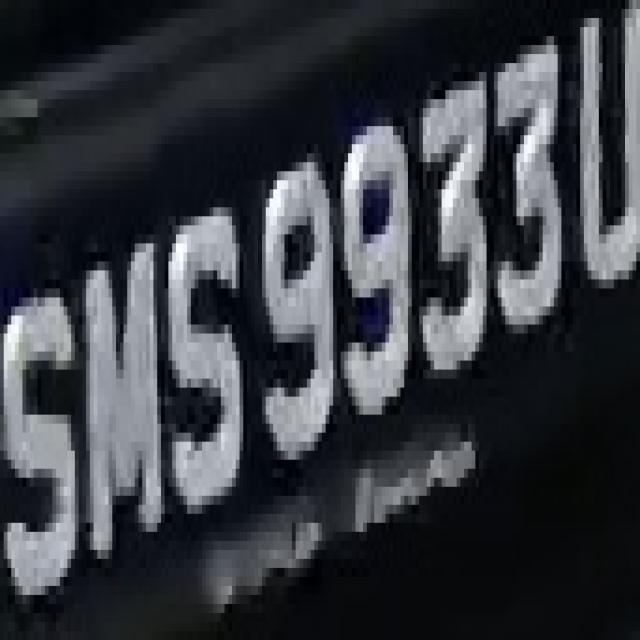3: (412, 45, 494, 388), (482, 54, 558, 370)
9: (254, 126, 340, 505), (330, 108, 420, 469)
M: (75, 225, 168, 568)
S: (161, 189, 247, 532), (4, 279, 75, 622)
U: (569, 9, 640, 316)
